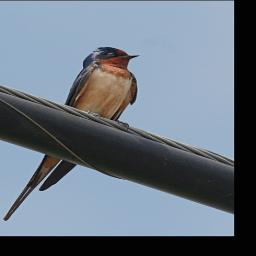Swallow: (2, 45, 140, 221)
